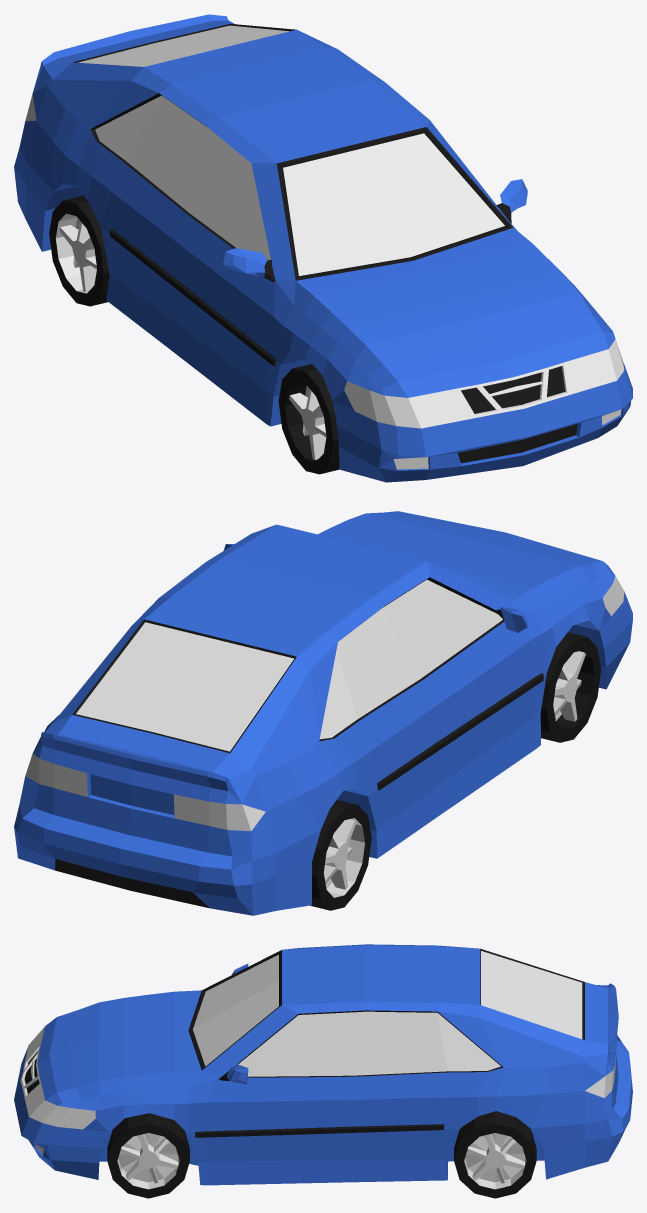
The picture shows the model from 3 angles, top to bottom: view 1: azimuth 30°, elevation 25°; view 2: azimuth 150°, elevation 25°; view 3: azimuth 270°, elevation 25°; orthographic projection. The views are drawn at different scales.
Parts seen in each view (by area): view 1: Body, Front right, Rear right; view 2: Body, Rear right, Front right; view 3: Body, Rear left, Front left.
Boxes of the visible parts, x1,y1,x2,y2 form: Body: (14, 14, 632, 482); Front right: (278, 364, 339, 474); Rear right: (49, 195, 109, 306); Body: (14, 511, 632, 915); Rear right: (310, 800, 371, 910); Front right: (540, 632, 600, 742); Body: (14, 944, 632, 1185); Rear left: (454, 1111, 536, 1198); Front left: (107, 1113, 189, 1198).
Size of the model in its own units: 213 by 156 by 497.
